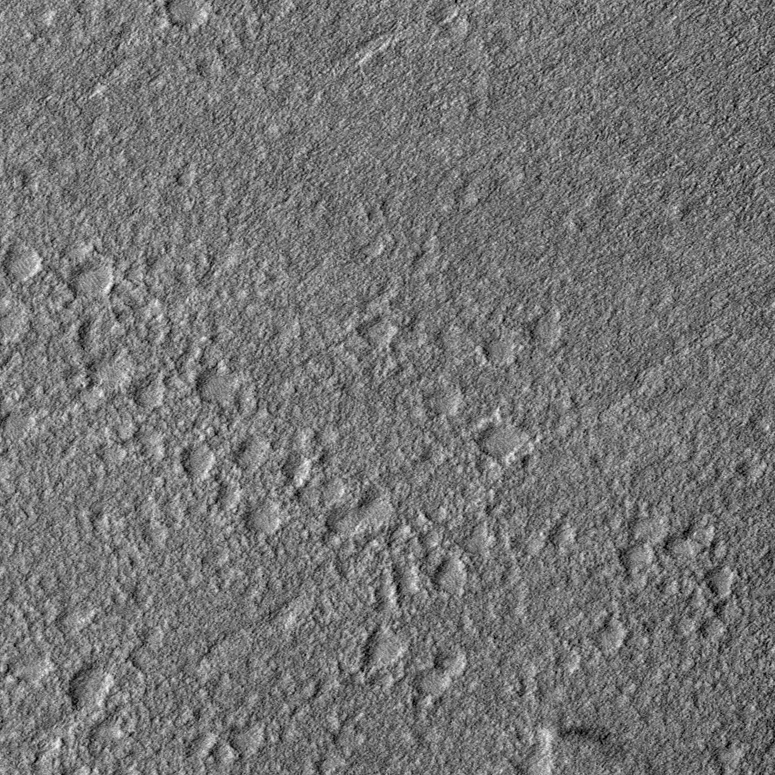dust_devil: (529, 720, 652, 775)
